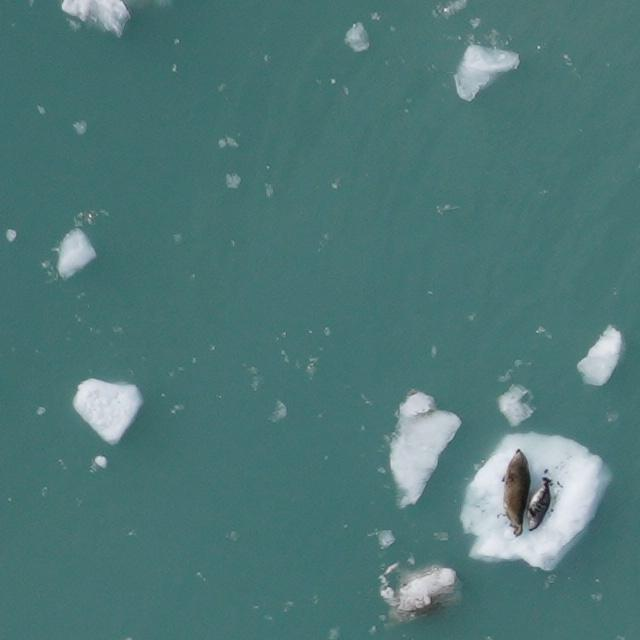seal: (493, 445, 536, 540), (518, 474, 563, 538)
